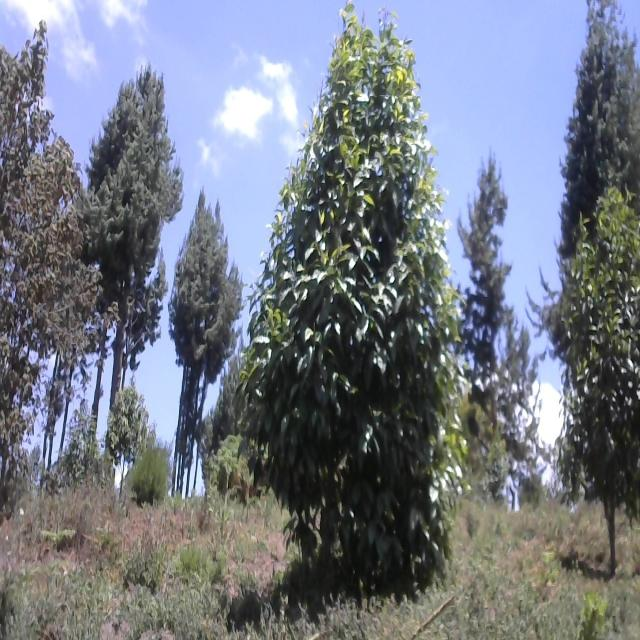Dombeya torrida: (0, 27, 94, 526)
Juniperus procesera: (99, 57, 180, 396), (180, 187, 240, 498), (459, 151, 516, 386)
Prunus Africana: (256, 6, 482, 620), (529, 162, 640, 581)
